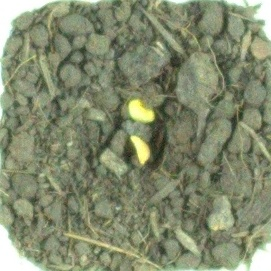pepper seed: (51, 51, 206, 217), (48, 36, 205, 160)
